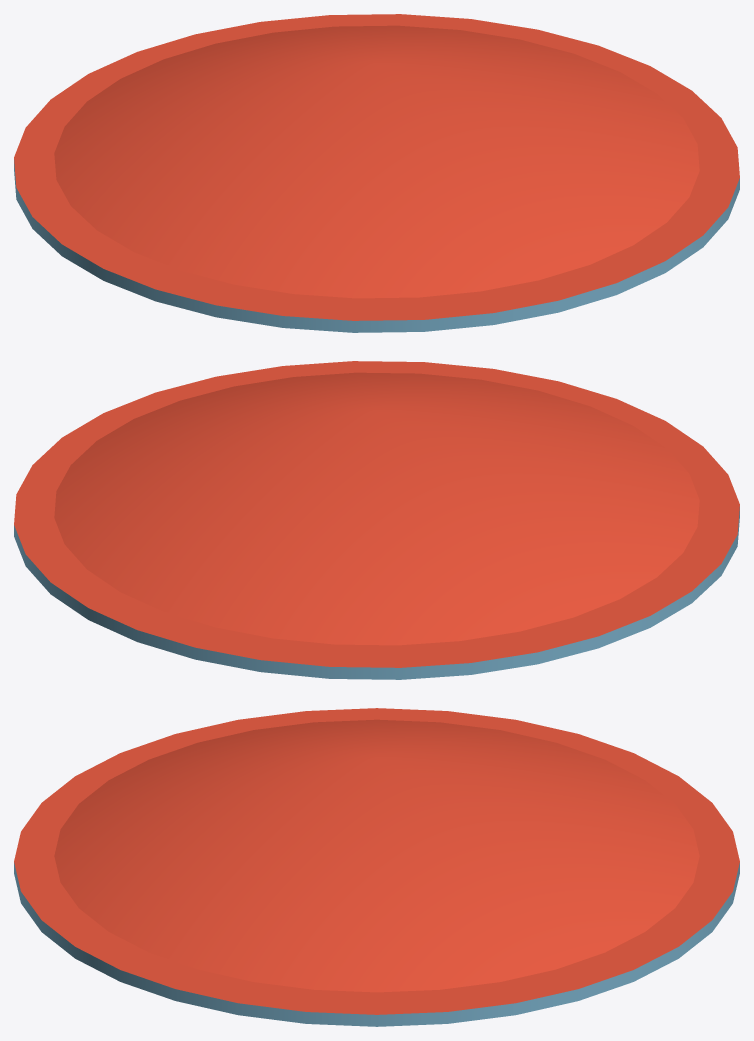
The model's file is nave 4.fbx.
3 views of the same model, one above another, from view 1: azimuth 30°, elevation 25°; view 2: azimuth 150°, elevation 25°; view 3: azimuth 270°, elevation 25° (orthographic).
Parts seen in each view (by area): view 1: Cone; view 2: Cone; view 3: Cone.
Boxes of the visible parts, box(x1,y1,x2,y2) form: Cone: box(14, 14, 739, 332); Cone: box(14, 361, 739, 679); Cone: box(14, 708, 739, 1026).
Bounding box in the file's own units: 674 × 212 × 674.
